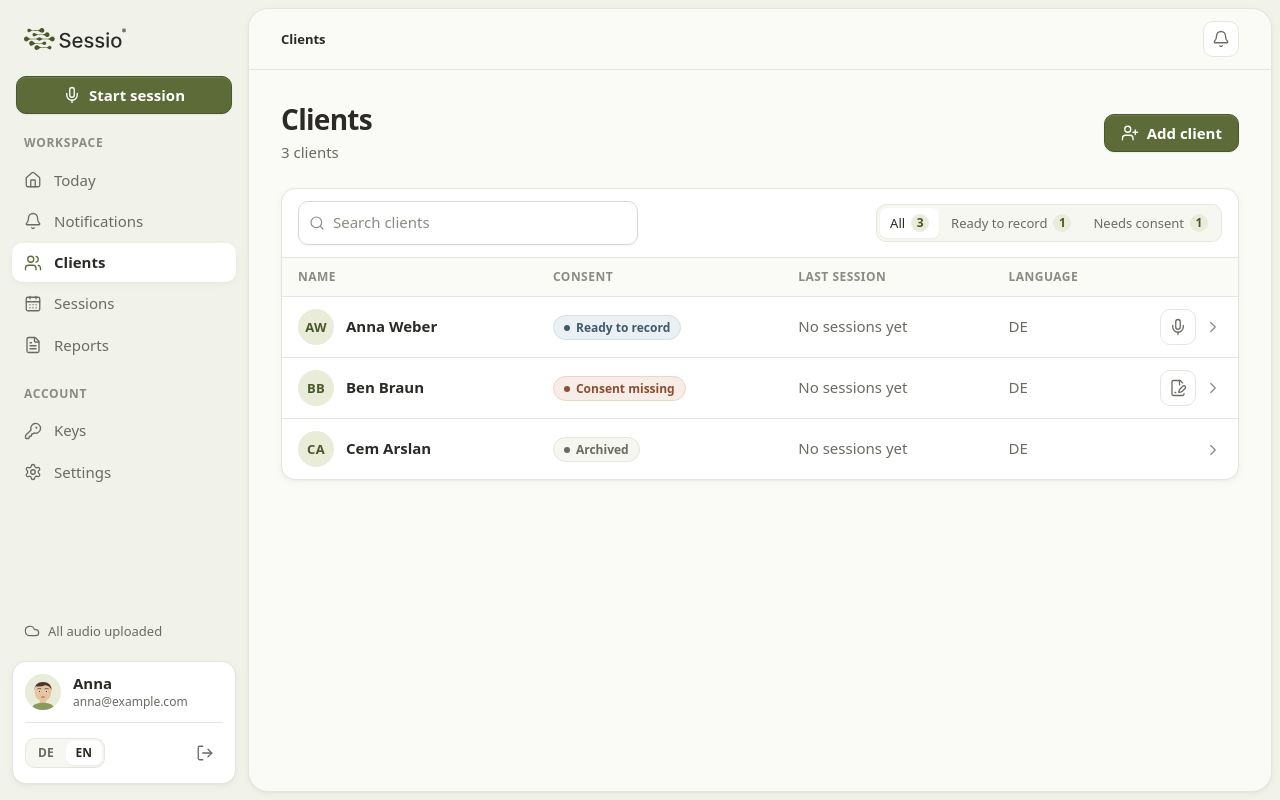
clients › filters by readiness and offers the next step per row
Expected: the link "Anna Weber" is shown, [346,316,437,339]
Expected: the text "3 clients" is shown, [281,142,339,162]
Click the button "Needs consent 1": (1151, 223) [1083,208,1218,238]
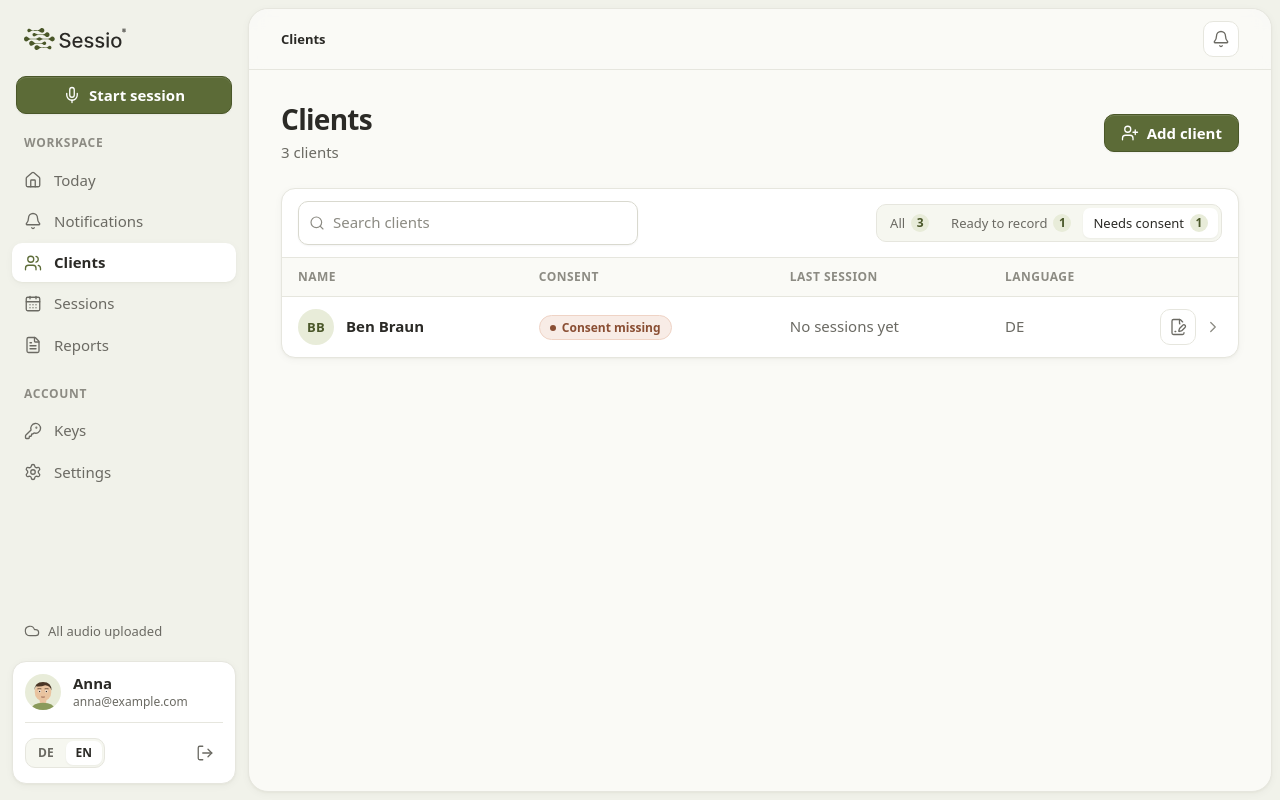
Expected: the link "Ben Braun" is shown, [346,316,424,339]
Now the link "Anna Weber" is gone
Now the link "Cem Arslan" is gone
Click the button "Ready to record 1": (1011, 223) [941,208,1081,238]
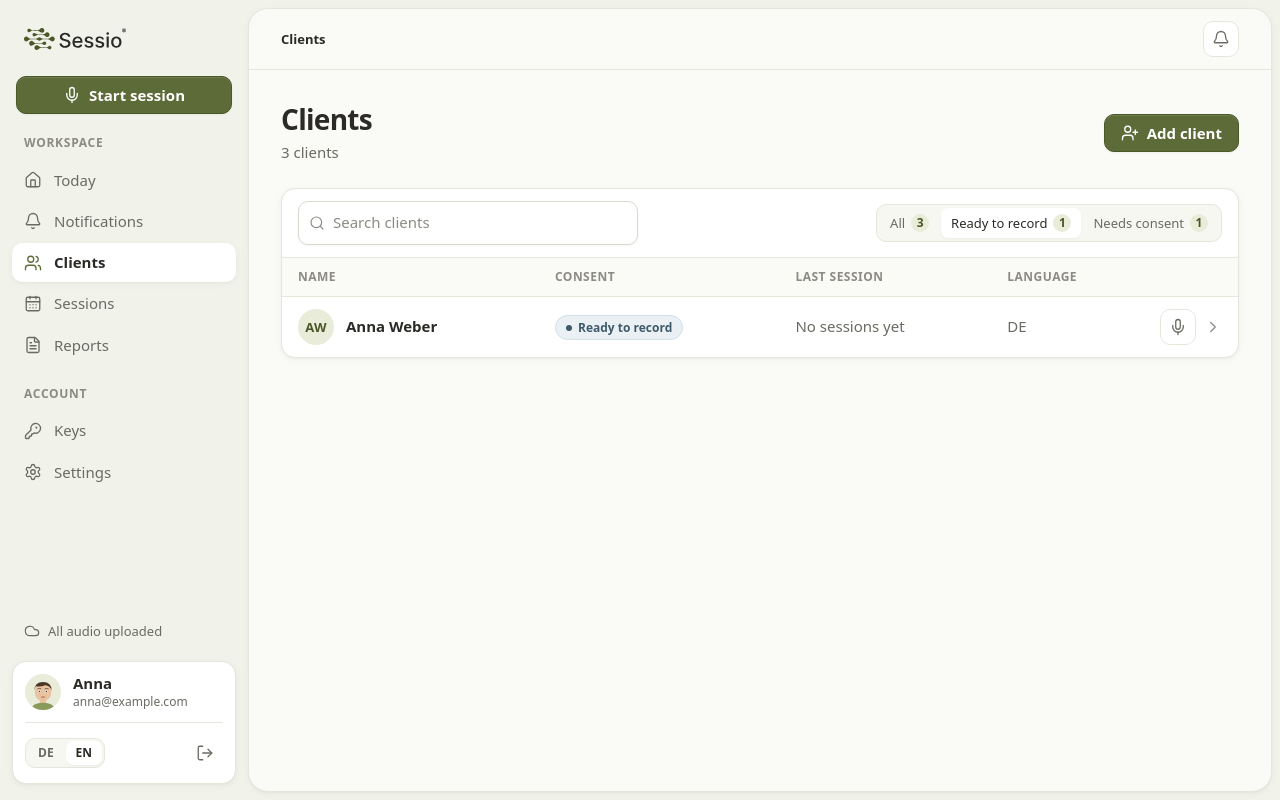
Now the link "Anna Weber" is shown, box [346,316,437,339]
Now the link "Ben Braun" is gone
